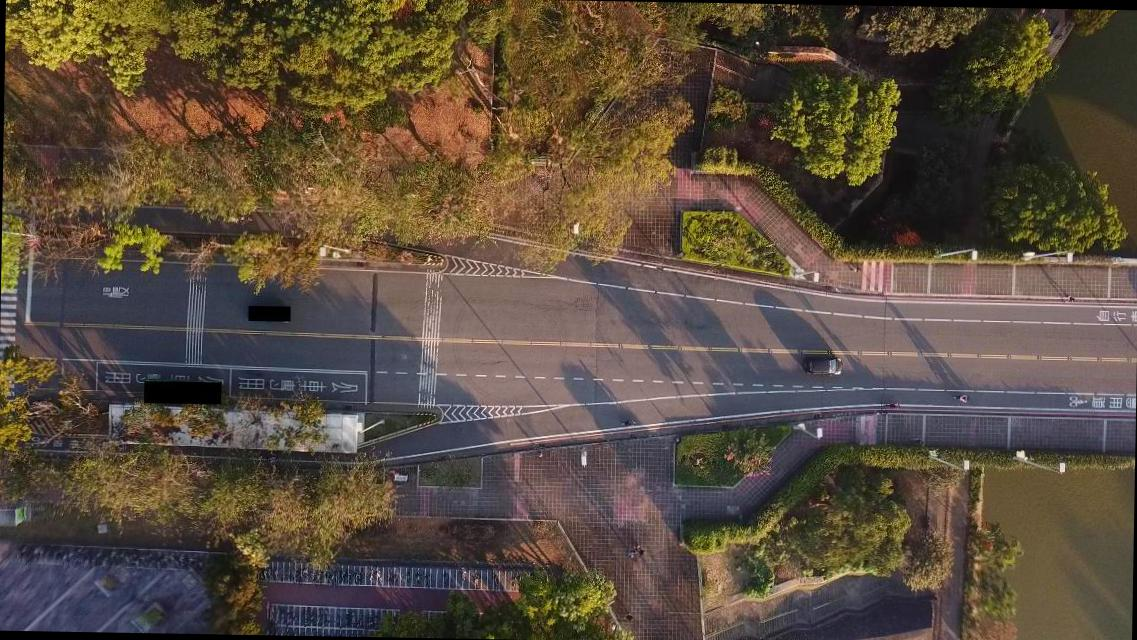vehicle: (803, 357, 842, 375)
